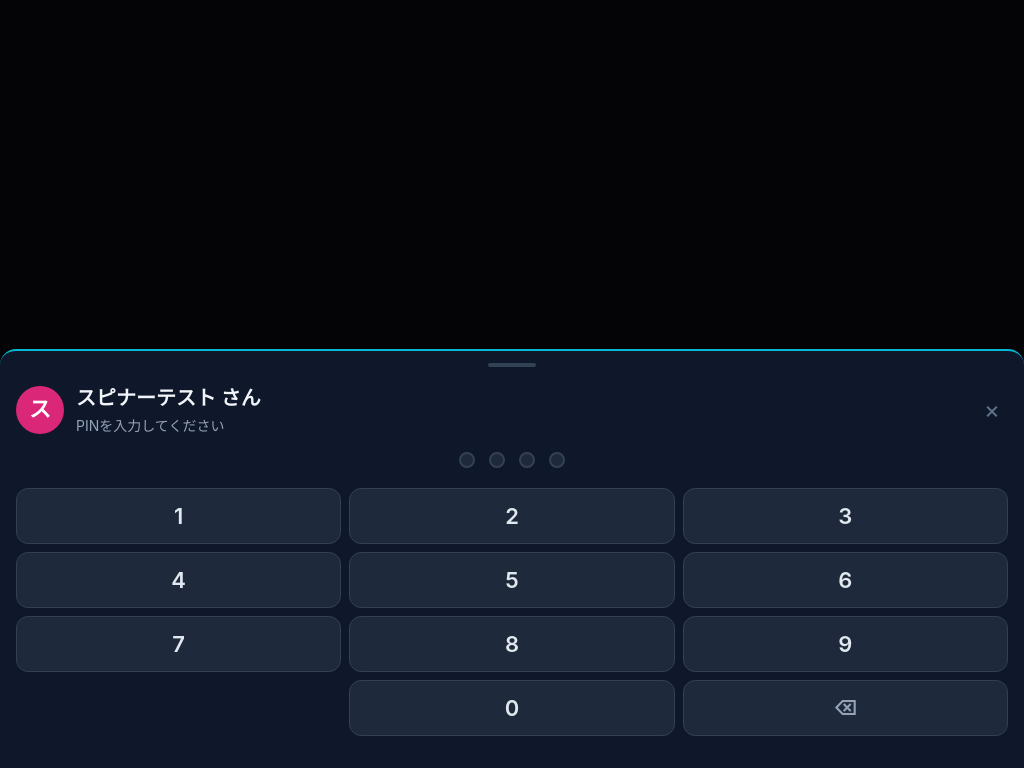
Test: SPEC-LOGIN-PIN-VERIFY-SPINNER-01 PIN照合オーバーレイ › when_submitting_should_show_pin_verifying_overlay_with_spinner_text
Press the mouse on the button with test id "pin-key-1" at (179, 516), box [16, 488, 341, 544]
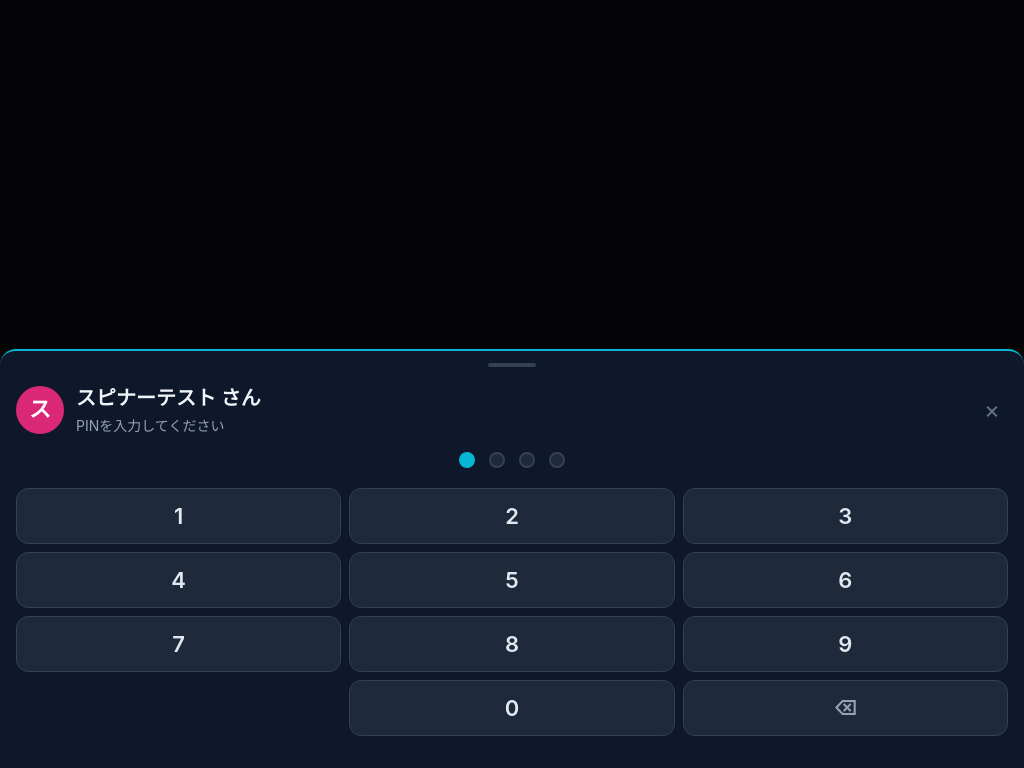
Press the mouse on the button "2" at (512, 516), box [349, 488, 675, 544]
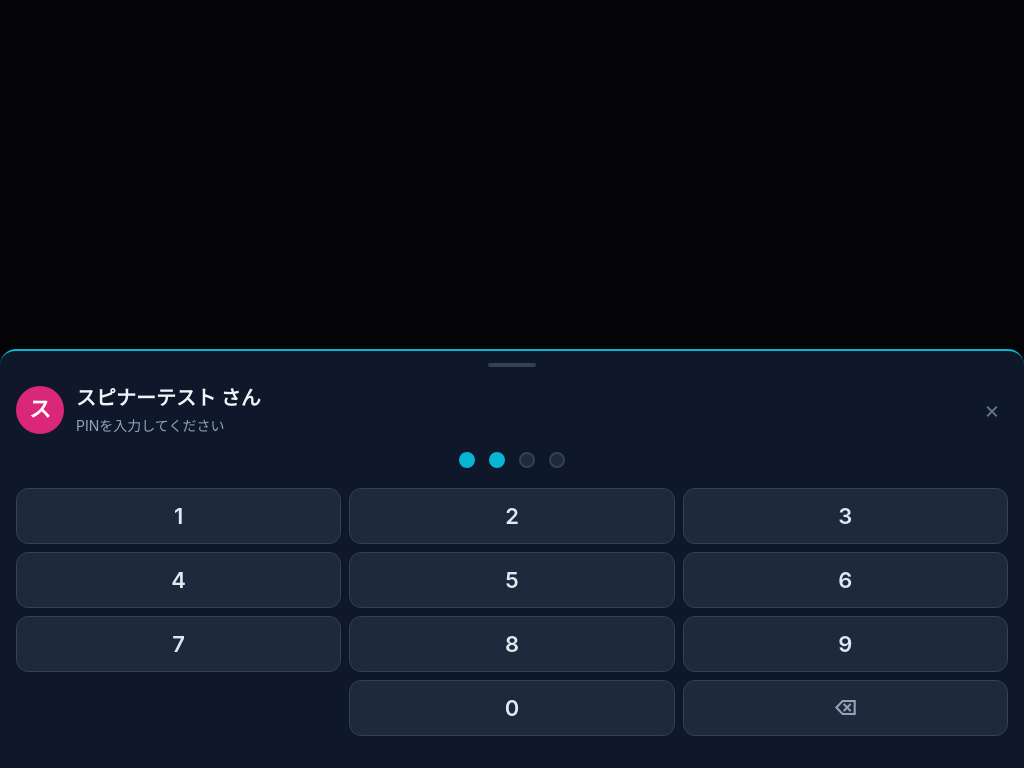
Press the mouse on the button "3" at (845, 516), box [683, 488, 1008, 544]
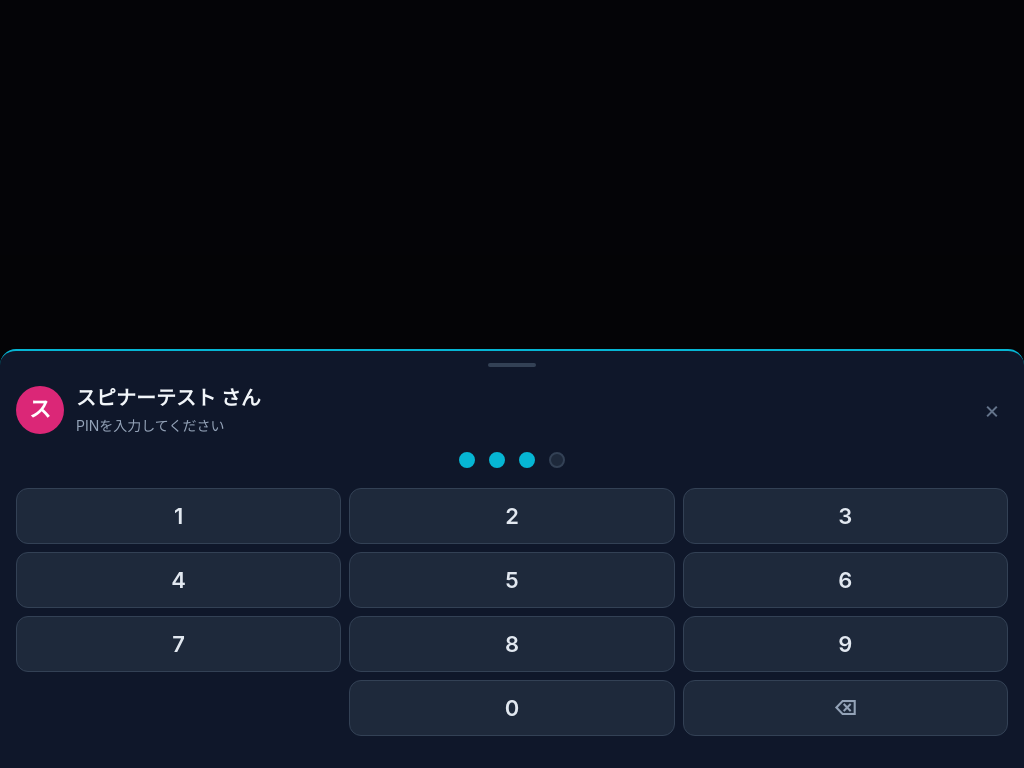
Press the mouse on the button "4" at (179, 580), box [16, 552, 341, 608]
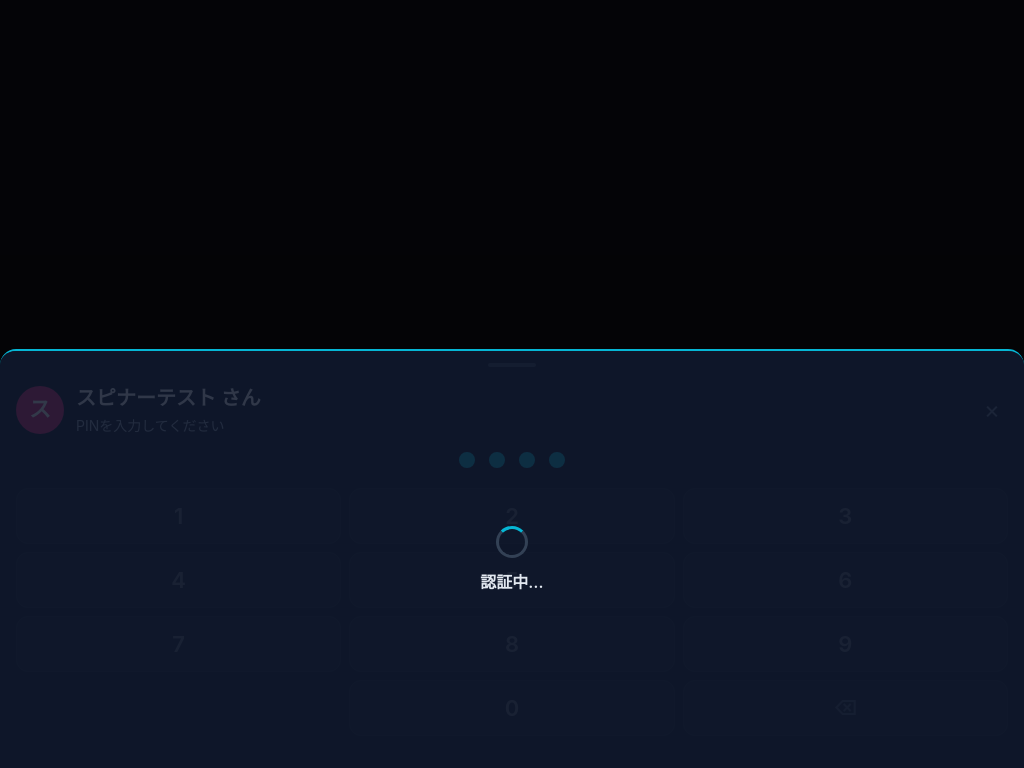
Expected: the element with test id "pin-verifying-overlay" is shown, [0, 351, 1023, 767]
Expected: the text "認証中…" is shown, [480, 570, 544, 594]
